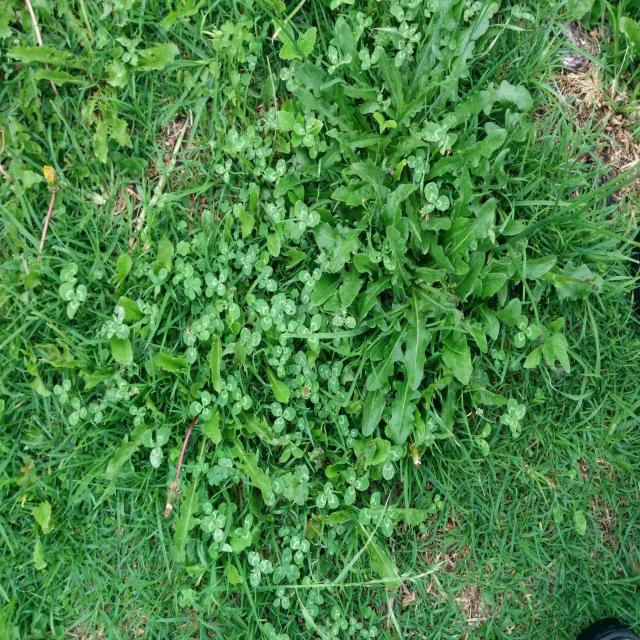Four Leaf Clover: (500, 398, 526, 437), (407, 148, 430, 182)
